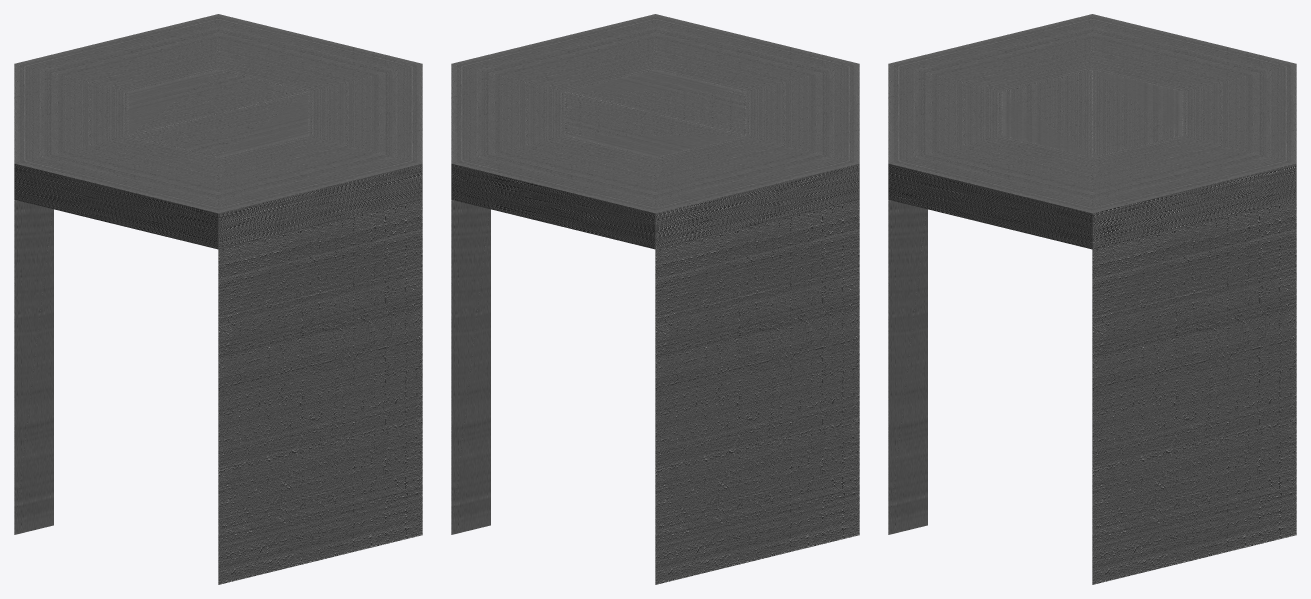
Rendered from arch.fbx.
3 renders of one model, left to right at view 1: azimuth 30°, elevation 25°; view 2: azimuth 150°, elevation 25°; view 3: azimuth 270°, elevation 25°, orthographic.
Parts seen in each view (by area): view 1: archdisplayed; view 2: archdisplayed; view 3: archdisplayed.
Boxes of the visible parts, bbox=[...] form: archdisplayed: bbox=[14, 14, 422, 584]; archdisplayed: bbox=[451, 14, 859, 584]; archdisplayed: bbox=[888, 14, 1296, 584].
Bounding box in the file's own units: 2 × 1.74 × 1.73.
